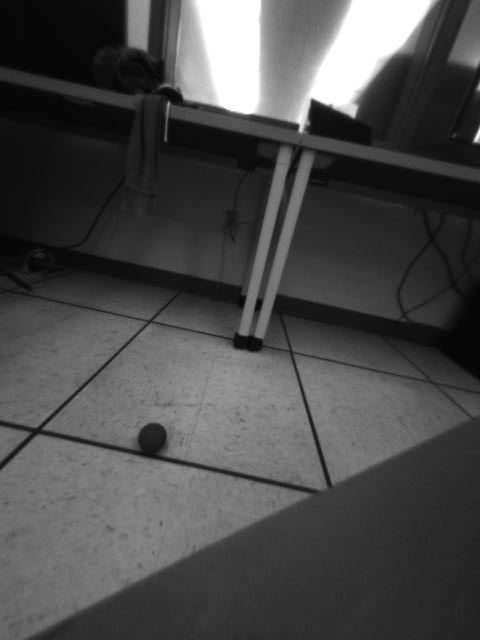dogtoy: (132, 416, 177, 464)
